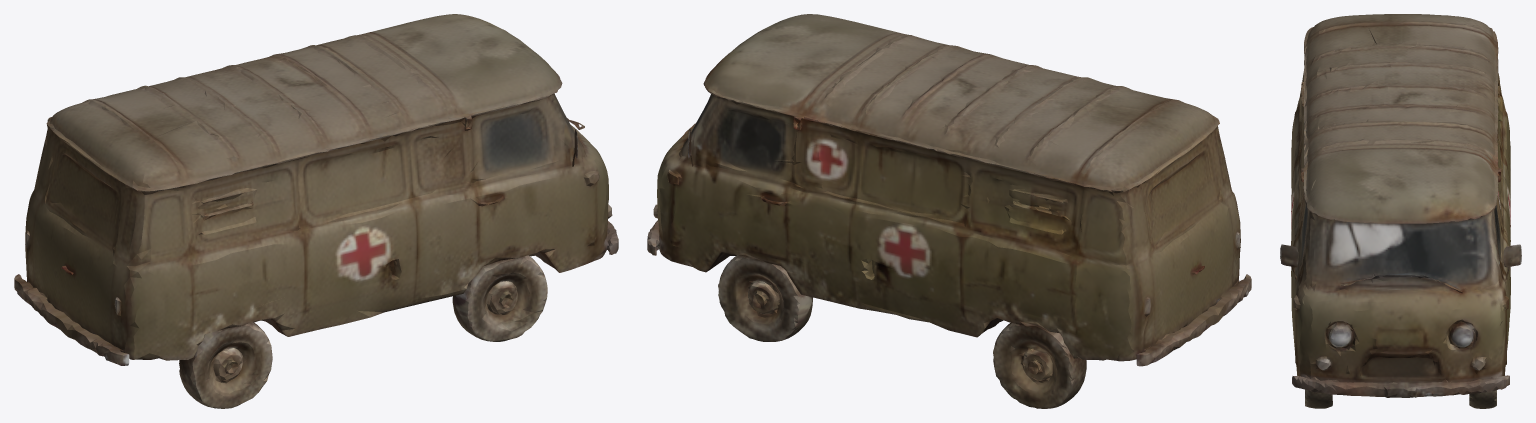
Rendered from car_uaz.glb.
3 views of the same model, side by side, from view 1: azimuth 30°, elevation 25°; view 2: azimuth 150°, elevation 25°; view 3: azimuth 270°, elevation 25° (orthographic). The views are drawn at different scales.
Visible parts, largest first — view 1: car_uaz; view 2: car_uaz; view 3: car_uaz.
Part boxes in pixels (x1,y1,x2,y2): car_uaz: (14, 14, 618, 408); car_uaz: (647, 14, 1251, 408); car_uaz: (1280, 14, 1521, 408).
Size of the model in its own units: 4.4 by 2.09 by 1.92.
1 material, 1 textured.
